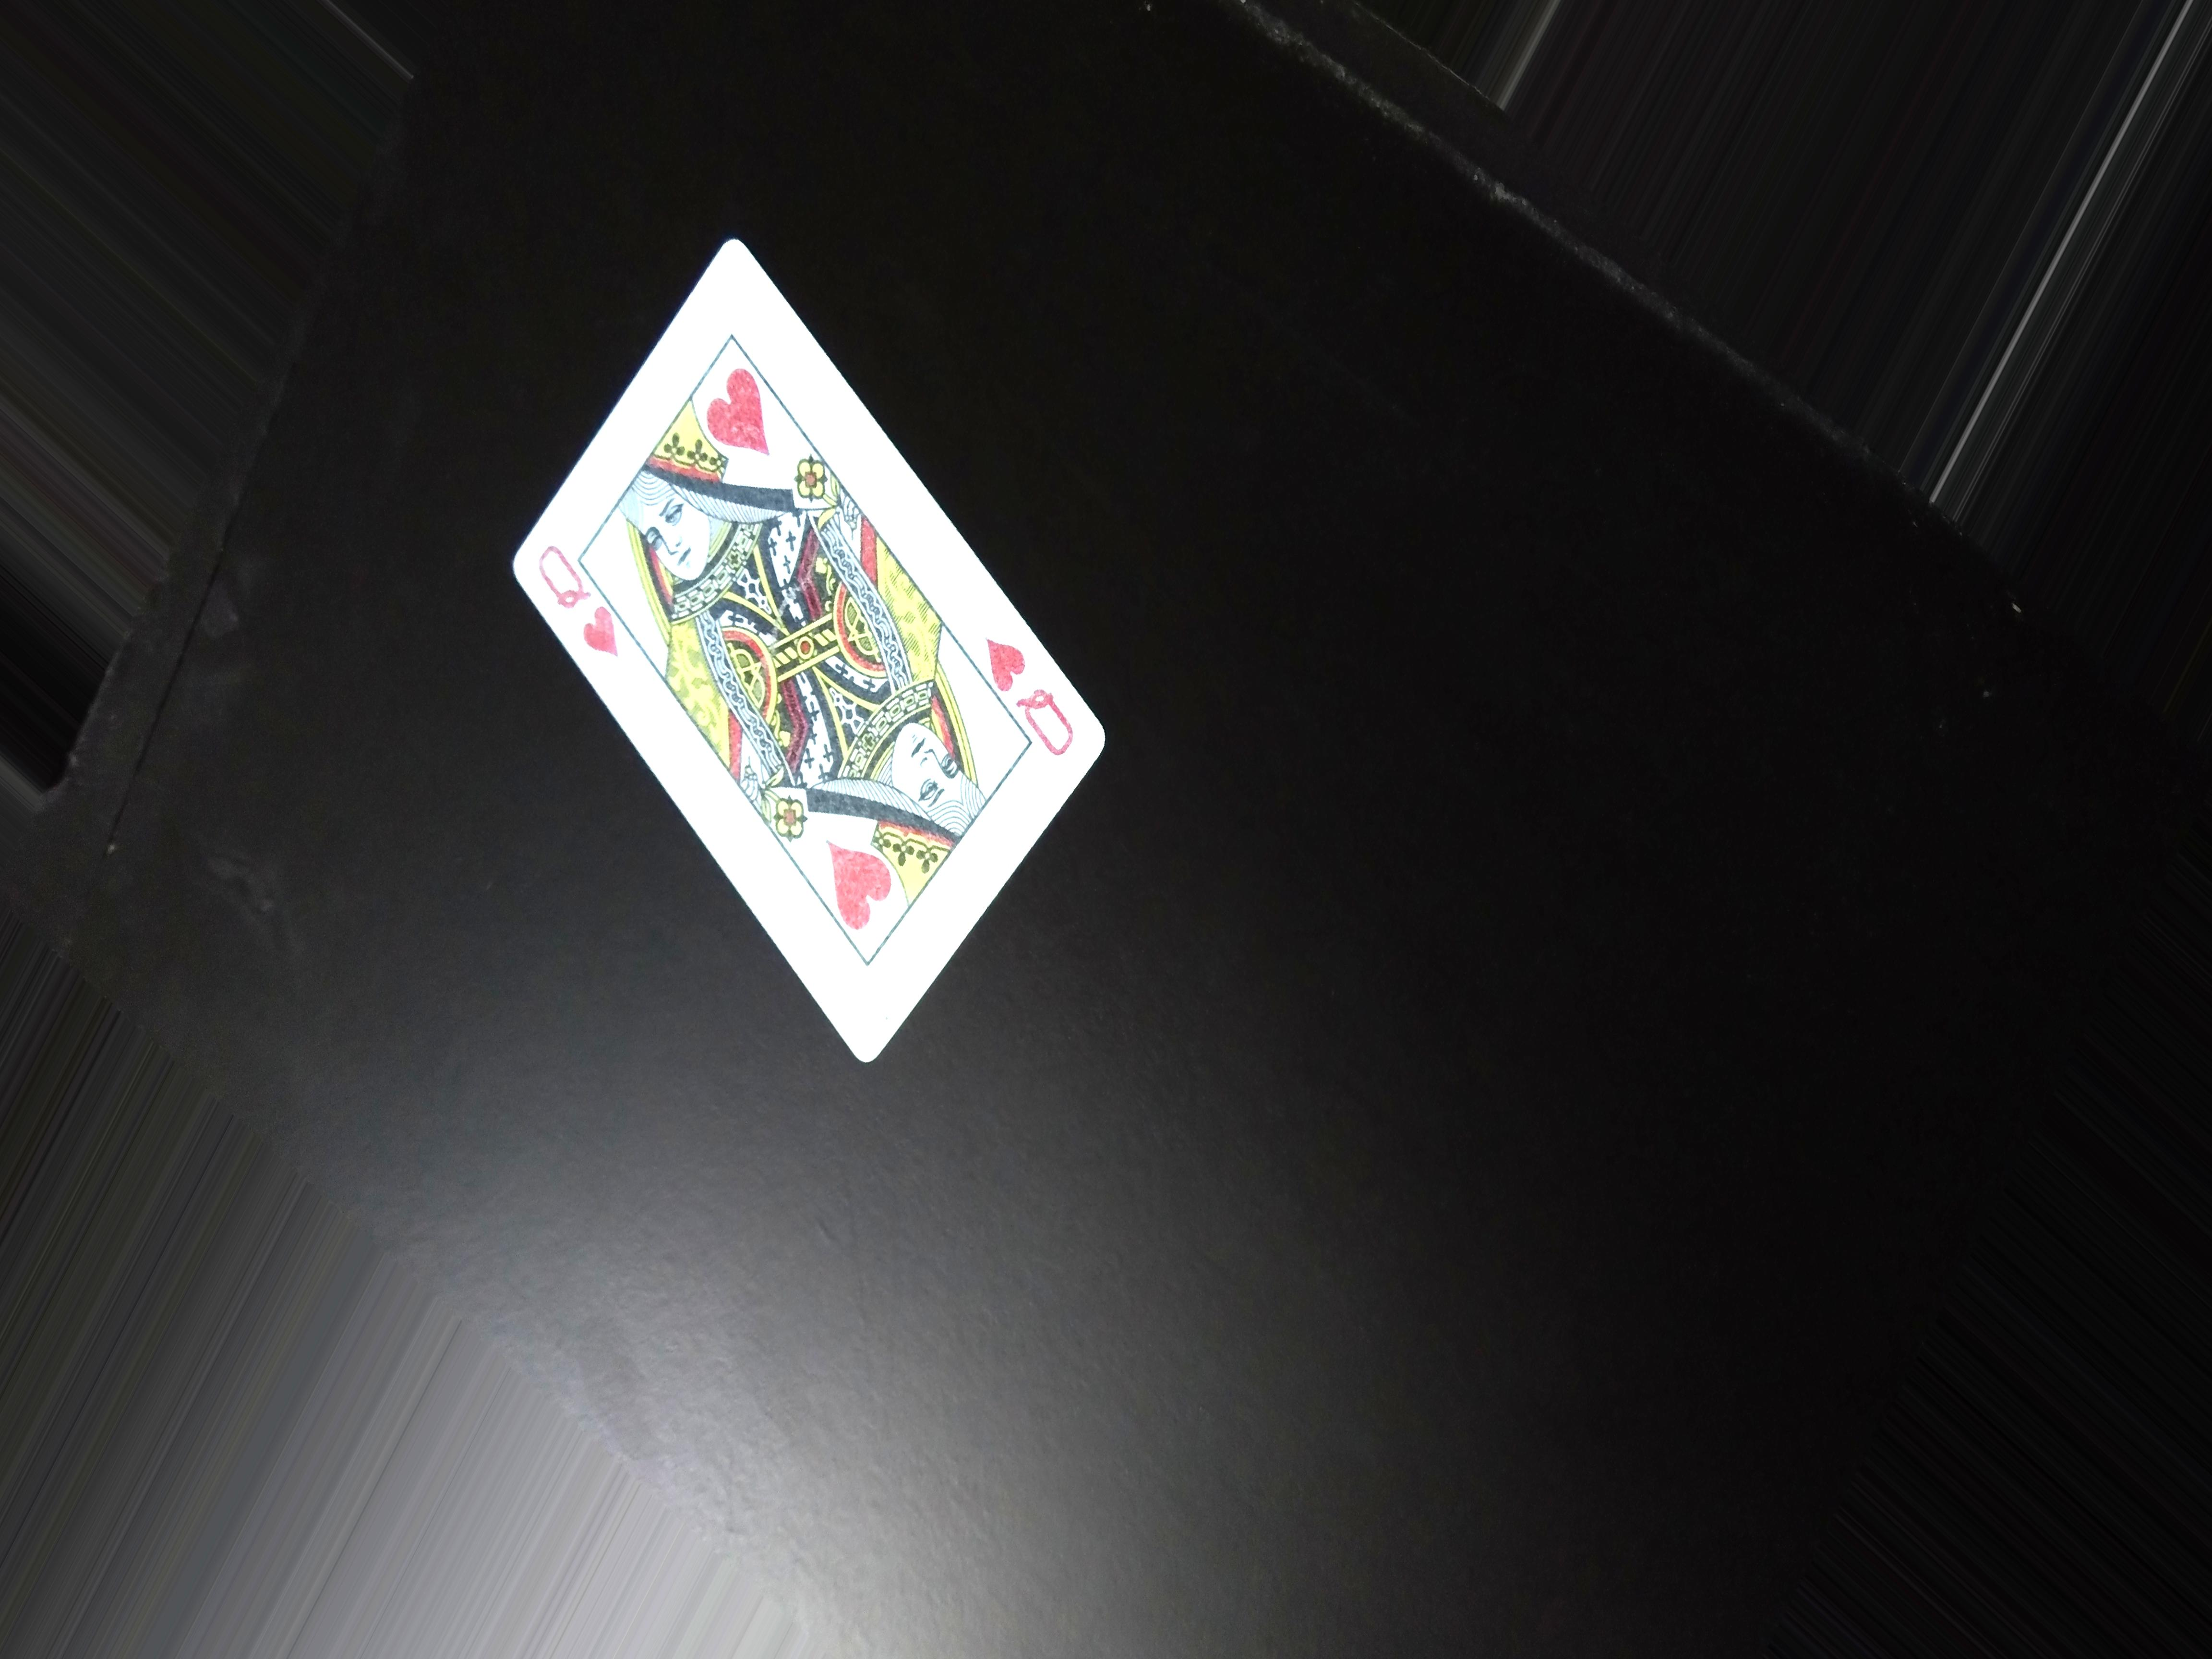QH: (526, 544, 622, 667)
